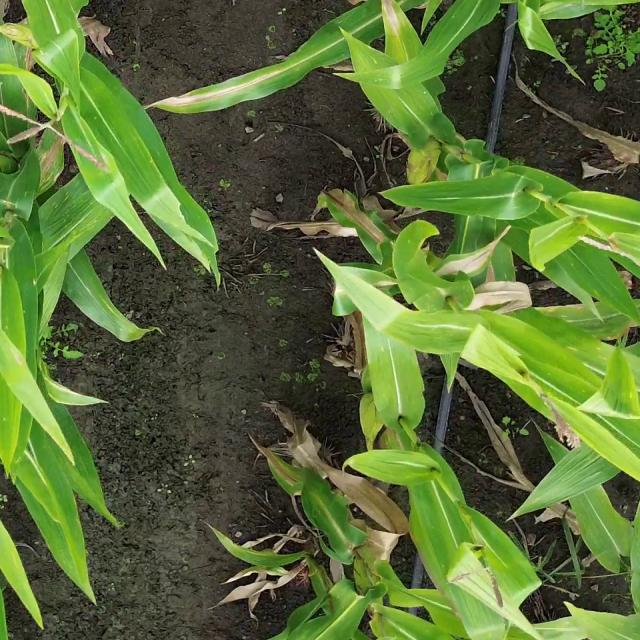gray-leaf-spot: (48, 191, 103, 237)
northern-leaf-blight: (186, 73, 280, 109), (336, 200, 397, 253), (441, 248, 494, 284), (382, 2, 419, 50), (36, 132, 69, 184), (268, 457, 311, 493)
